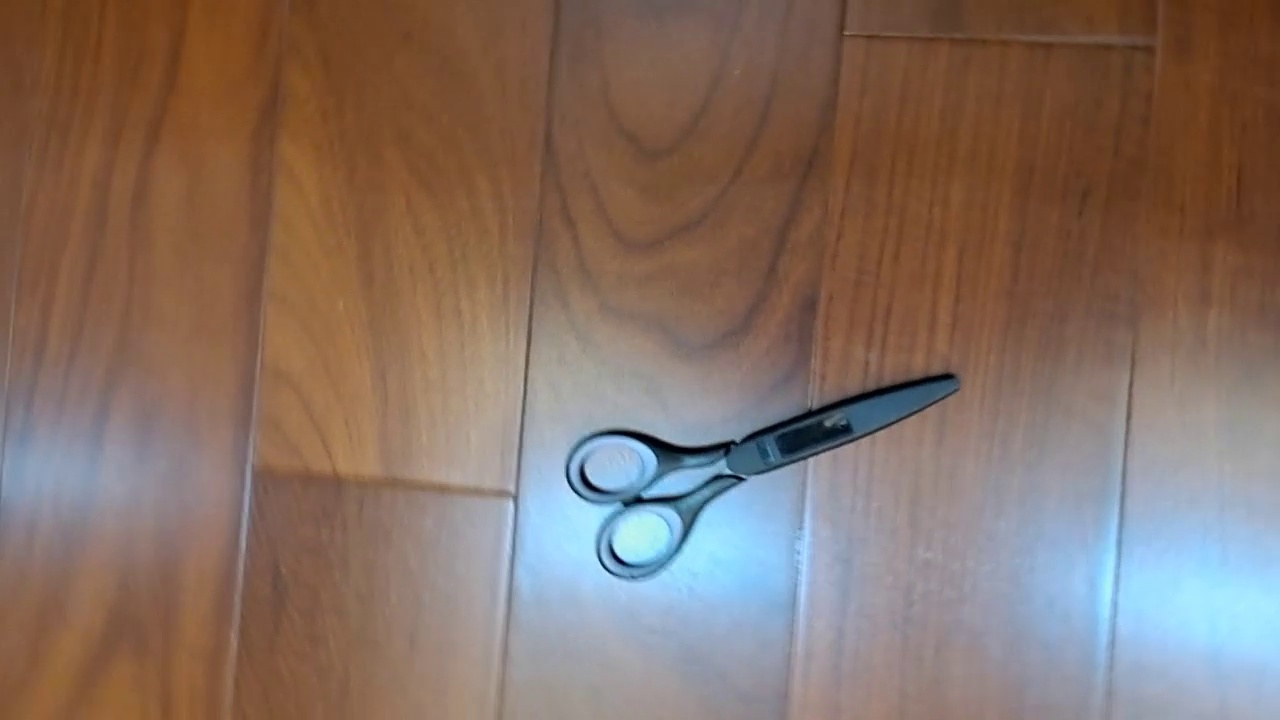scissors: (564, 370, 963, 583)
